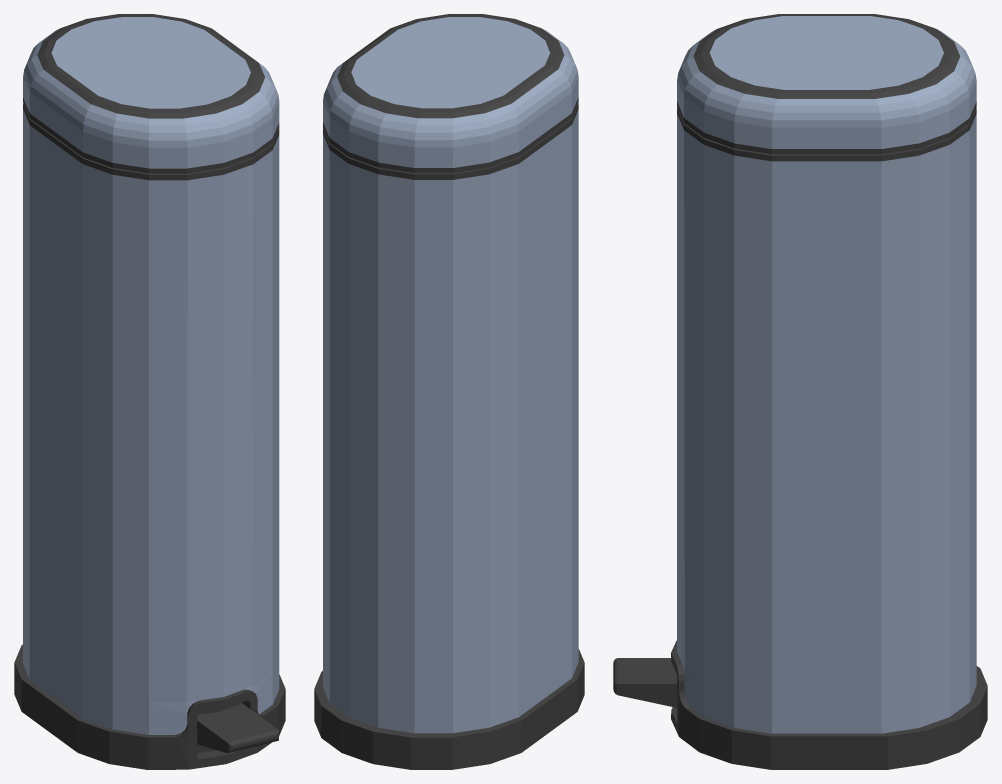
Rendered from poubelle.fbx.
The picture shows the model from 3 angles, left to right: view 1: azimuth 30°, elevation 25°; view 2: azimuth 150°, elevation 25°; view 3: azimuth 270°, elevation 25°; orthographic projection. The views are drawn at different scales.
Parts seen in each view (by area): view 1: Circle; view 2: Circle; view 3: Circle.
Boxes of the visible parts, box(x1,y1,x2,y2) form: Circle: box(14, 14, 285, 769); Circle: box(314, 14, 584, 769); Circle: box(613, 14, 987, 769).
Size of the model in its own units: 26 by 80.04 by 40.76.
